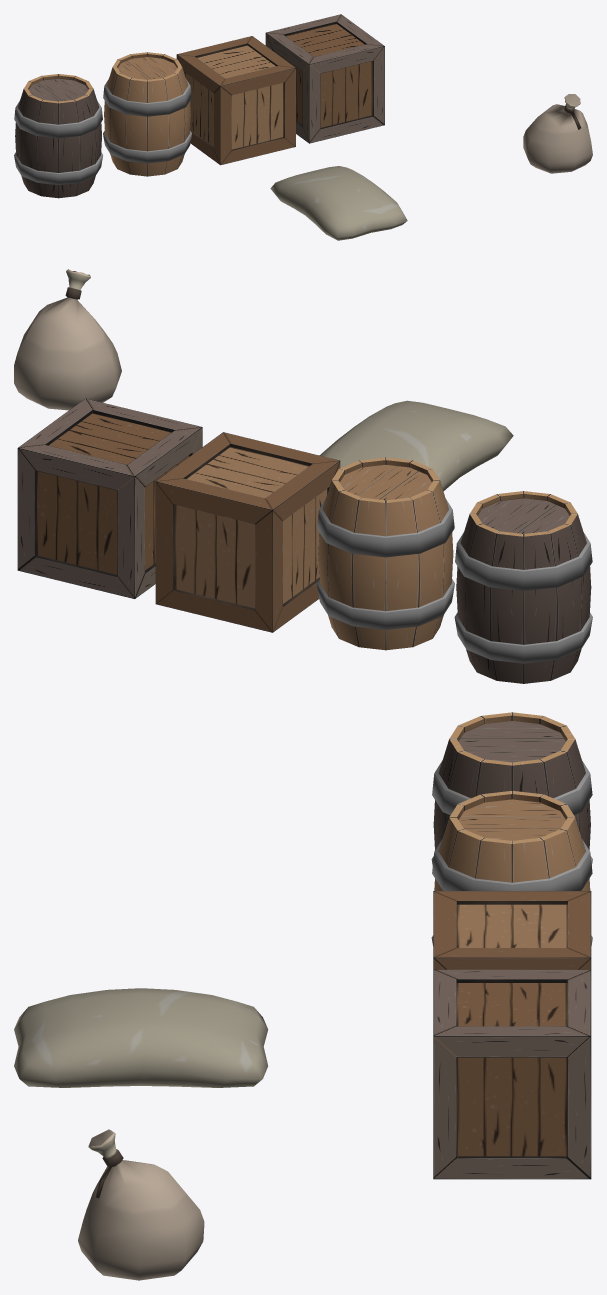
File: props_sack_01.glb
3 views of the same model, one above another, from view 1: azimuth 30°, elevation 25°; view 2: azimuth 150°, elevation 25°; view 3: azimuth 270°, elevation 25° (orthographic). The views are drawn at different scales.
Visible parts, largest first — view 1: props_crate_01, props_crate_02, props_barrel_01, props_barrel_02, props_sack_01, props_sack_02; view 2: props_crate_01, props_crate_02, props_barrel_01, props_barrel_02, props_sack_02, props_sack_01; view 3: props_crate_02, props_sack_01, props_barrel_01, props_crate_01, props_barrel_02, props_sack_02.
Boxes of the visible parts, x1,y1,x2,y2 form: props_crate_01: [176, 36, 295, 165]; props_crate_02: [265, 14, 384, 143]; props_barrel_01: [103, 52, 191, 176]; props_barrel_02: [14, 74, 103, 198]; props_sack_01: [270, 166, 407, 240]; props_sack_02: [523, 94, 592, 173]; props_crate_01: [155, 432, 340, 632]; props_crate_02: [17, 398, 202, 598]; props_barrel_01: [316, 457, 454, 650]; props_barrel_02: [454, 491, 592, 683]; props_sack_02: [14, 269, 121, 410]; props_sack_01: [319, 400, 513, 491]; props_crate_02: [433, 969, 591, 1179]; props_sack_01: [14, 988, 268, 1087]; props_barrel_01: [431, 790, 592, 946]; props_crate_01: [433, 891, 591, 969]; props_barrel_02: [431, 712, 592, 865]; props_sack_02: [78, 1129, 204, 1280].
Bounding box in the file's own units: 5.24 × 1.02 × 3.12.
1 material, 1 textured.
